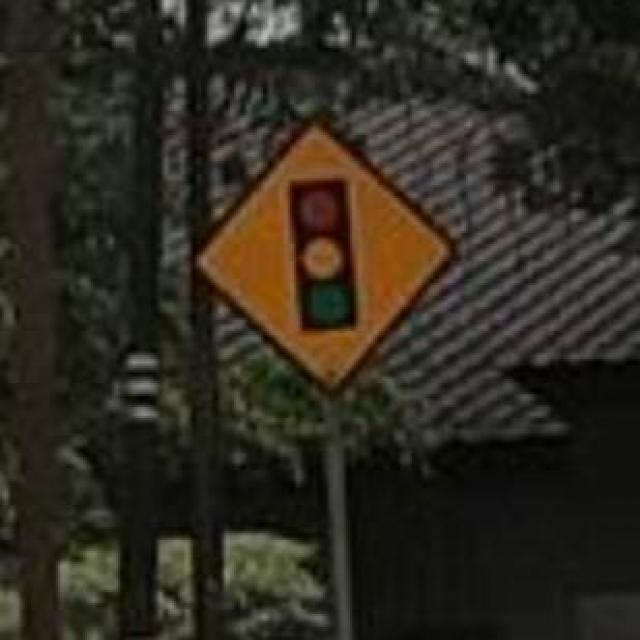traffic sign: (195, 124, 448, 385)
